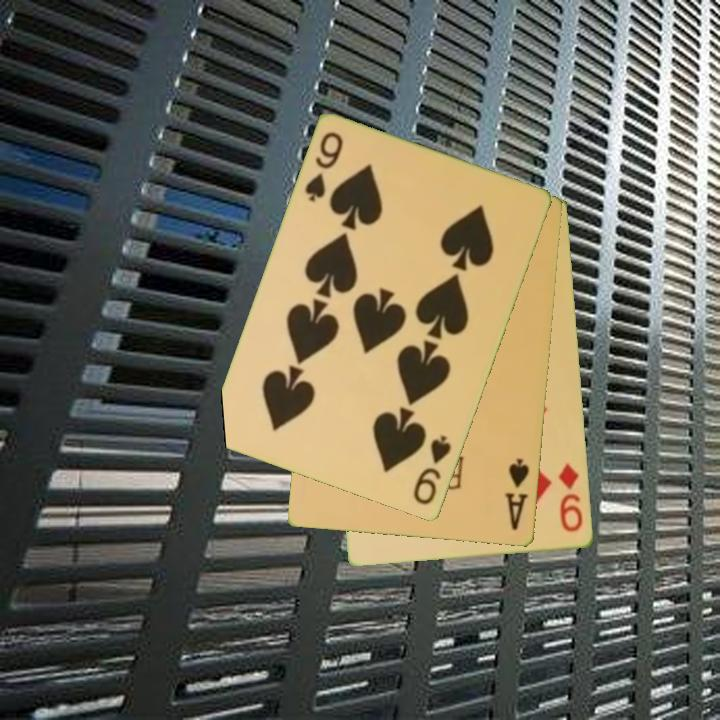9d: (555, 460, 586, 536)
9s: (410, 432, 455, 509), (301, 129, 346, 206)
As: (502, 455, 533, 534)
